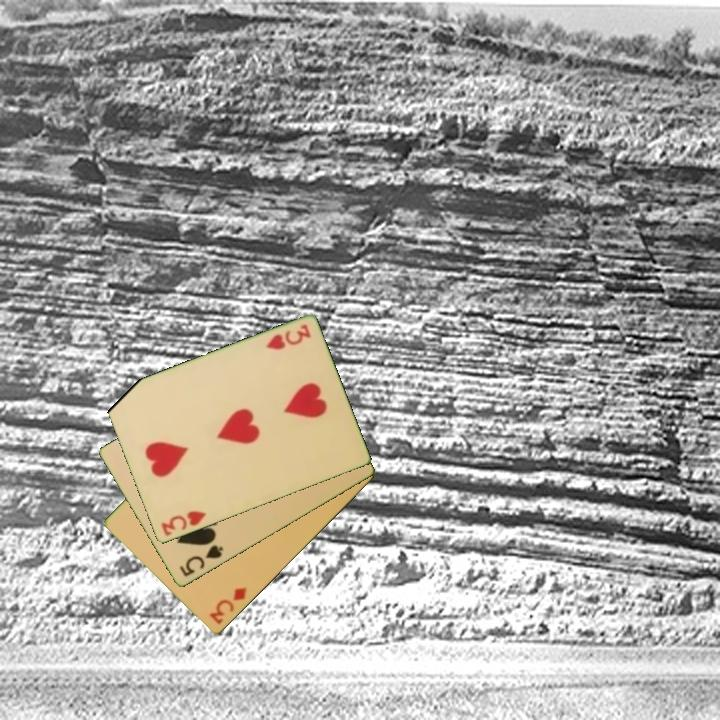3d: (206, 584, 250, 628)
3h: (262, 321, 313, 353), (157, 508, 209, 539)
5s: (176, 542, 226, 580)
